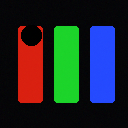2 circle: (21, 25, 41, 45)
